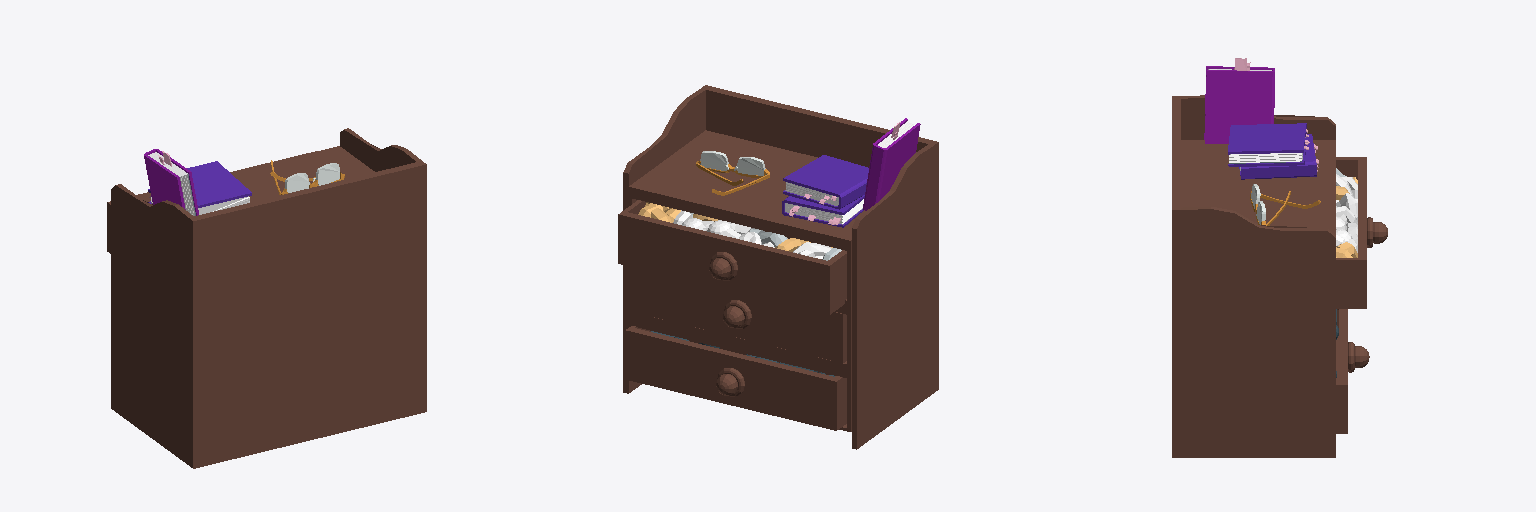
The picture shows the model from 3 angles: view 1: azimuth 30°, elevation 25°; view 2: azimuth 150°, elevation 25°; view 3: azimuth 270°, elevation 25°; orthographic projection.
Visible parts, largest first — view 1: group[number redacted], group[number redacted], group[number redacted], group[number redacted], group[number redacted], group[number redacted], group[number redacted]; view 2: group[number redacted], group[number redacted], group[number redacted], group[number redacted], group[number redacted], group[number redacted], group[number redacted], group[number redacted], group[number redacted], group[number redacted], group[number redacted]; view 3: group[number redacted], group[number redacted], group[number redacted], group[number redacted], group[number redacted], group[number redacted], group[number redacted], group[number redacted].
Part boxes in pixels (x1,y1,x2,y2): group[number redacted]: (189,161,426,468); group[number redacted]: (111,184,193,464); group[number redacted]: (107,146,374,253); group[number redacted]: (144,149,198,215); group[number redacted]: (148,161,251,214); group[number redacted]: (340,128,421,171); group[number redacted]: (270,160,344,194); group[number redacted]: (618,130,865,314); group[number redacted]: (852,144,933,449); group[number redacted]: (625,326,846,430); group[number redacted]: (632,267,846,362); group[number redacted]: (701,85,938,392); group[number redacted]: (782,155,868,227); group[number redacted]: (623,89,705,393); group[number redacted]: (629,315,851,431); group[number redacted]: (863,118,920,210); group[number redacted]: (696,151,769,195); group[number redacted]: (629,266,851,368); group[number redacted]: (1181,206,1335,457); group[number redacted]: (1181,140,1387,308); group[number redacted]: (1204,58,1274,143); group[number redacted]: (1228,123,1318,179); group[number redacted]: (1172,96,1180,457); group[number redacted]: (1181,95,1335,139); group[number redacted]: (1336,309,1369,433); group[number redacted]: (1250,184,1320,225).
Bounding box in the file's own units: 2.22 × 2.63 × 1.79.